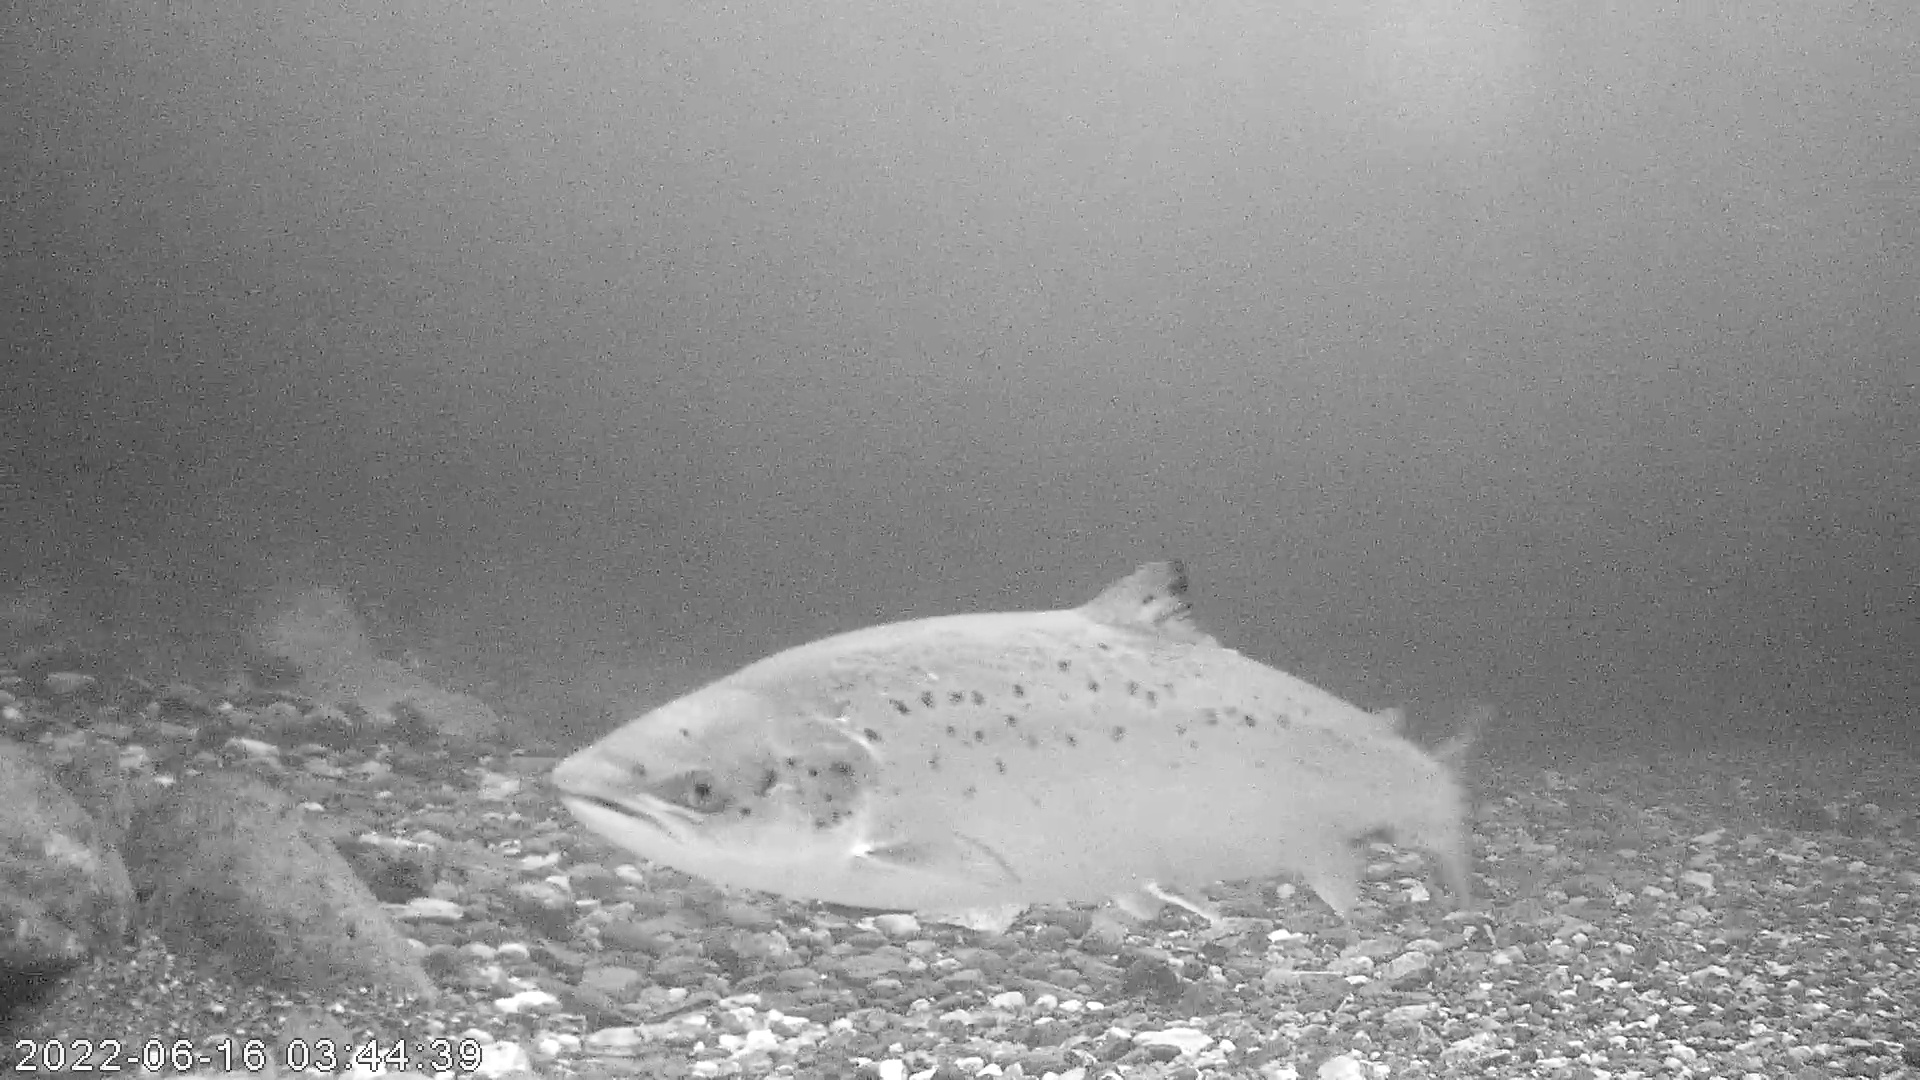salmon: (545, 551, 1493, 934)
